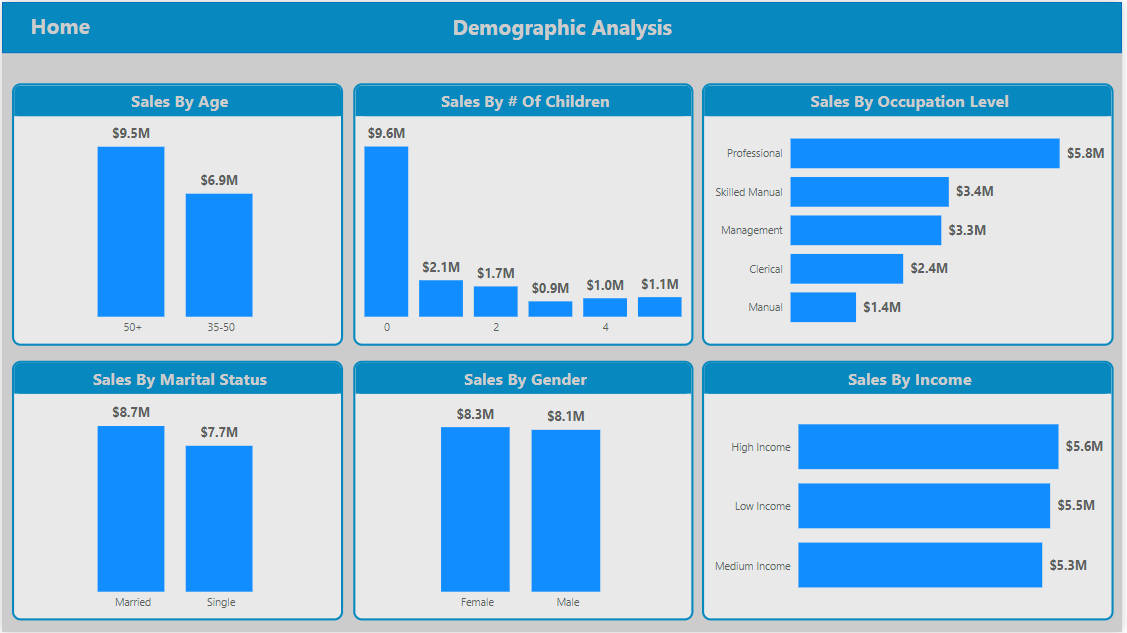

What the dashboard file says about the page in this screenshot:
{"tool":"powerbi","page":{"name":"Demographic Analysis","canvas":[1280,720],"ordinal":1},"visuals":[{"type":"clusteredColumnChart","title":"Sales By Gender","fields":{"Y":["Sum(FactInternetSales.SalesAmount)"],"Category":["DimCustomer.Gender"]},"box":[401.4,410,388.6,297.1],"z":0},{"type":"clusteredBarChart","title":"Sales By Income ","fields":{"Category":["DimCustomer.Income Segmentation"],"Y":["Sum(FactInternetSales.SalesAmount)"]},"box":[800,410,470,297.1],"z":1000},{"type":"clusteredColumnChart","title":"Sales By Age","fields":{"Category":["DimCustomer.AgeSpan"],"Y":["Sum(FactInternetSales.SalesAmount)"]},"box":[11.4,92.9,378.6,300],"z":2000},{"type":"clusteredColumnChart","title":"Sales By # Of Children","fields":{"Category":["DimCustomer.NumberChildrenAtHome"],"Y":["Sum(FactInternetSales.SalesAmount)"]},"box":[401.4,93.3,388.6,300],"z":3000},{"type":"clusteredBarChart","title":"Sales By Occupation Level","fields":{"Category":["DimCustomer.EnglishOccupation"],"Y":["Sum(FactInternetSales.SalesAmount)"]},"box":[800,92.9,470,300],"z":4000},{"type":"shape","box":[0,0,1280,58.6],"z":5000},{"type":"textbox","box":[490,7.1,300,44.3],"z":6000},{"type":"actionButton","box":[15.7,4.3,101.4,47.1],"z":7000},{"type":"clusteredColumnChart","title":"Sales By Marital Status","fields":{"Y":["Sum(FactInternetSales.SalesAmount)"],"Category":["DimCustomer.MaritalStatus"]},"box":[11.4,410,378.6,297.1],"z":8000}]}

Visuals, with their boxes in screenshot pixels (x1, y1, x2, y2), scaled from the page's 1280x720 canvas onto the 1127x633 screenshot:
"Sales By Gender" clusteredColumnChart: {"left": 353, "top": 360, "right": 696, "bottom": 622}
"Sales By Income " clusteredBarChart: {"left": 704, "top": 360, "right": 1118, "bottom": 622}
"Sales By Age" clusteredColumnChart: {"left": 10, "top": 82, "right": 343, "bottom": 345}
"Sales By # Of Children" clusteredColumnChart: {"left": 353, "top": 82, "right": 696, "bottom": 346}
"Sales By Occupation Level" clusteredBarChart: {"left": 704, "top": 82, "right": 1118, "bottom": 345}
shape: {"left": 0, "top": 0, "right": 1126, "bottom": 52}
textbox: {"left": 431, "top": 6, "right": 696, "bottom": 45}
actionButton: {"left": 14, "top": 4, "right": 103, "bottom": 45}
"Sales By Marital Status" clusteredColumnChart: {"left": 10, "top": 360, "right": 343, "bottom": 622}
